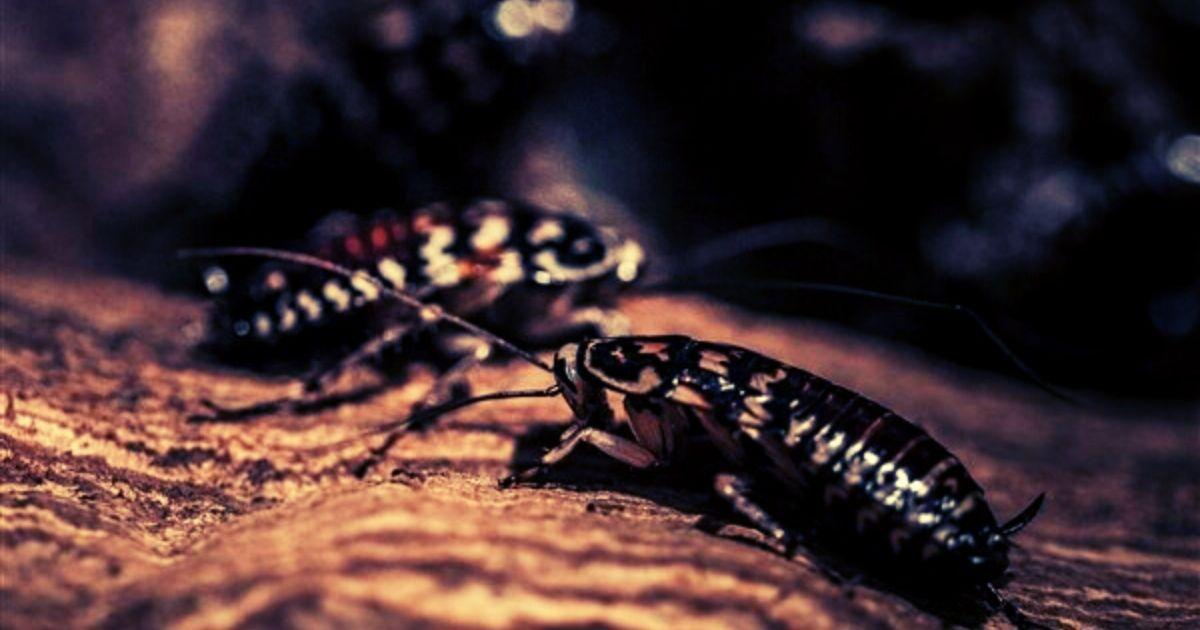cockroach: (537, 328, 1021, 602), (167, 189, 654, 374)
